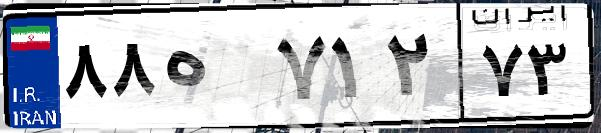1: (330, 28, 385, 110)
2: (385, 28, 445, 110)
3: (525, 38, 570, 115)
7: (270, 28, 330, 110), (475, 38, 525, 113)
8: (57, 26, 110, 100), (110, 28, 158, 98)
ه: (158, 20, 270, 120)
